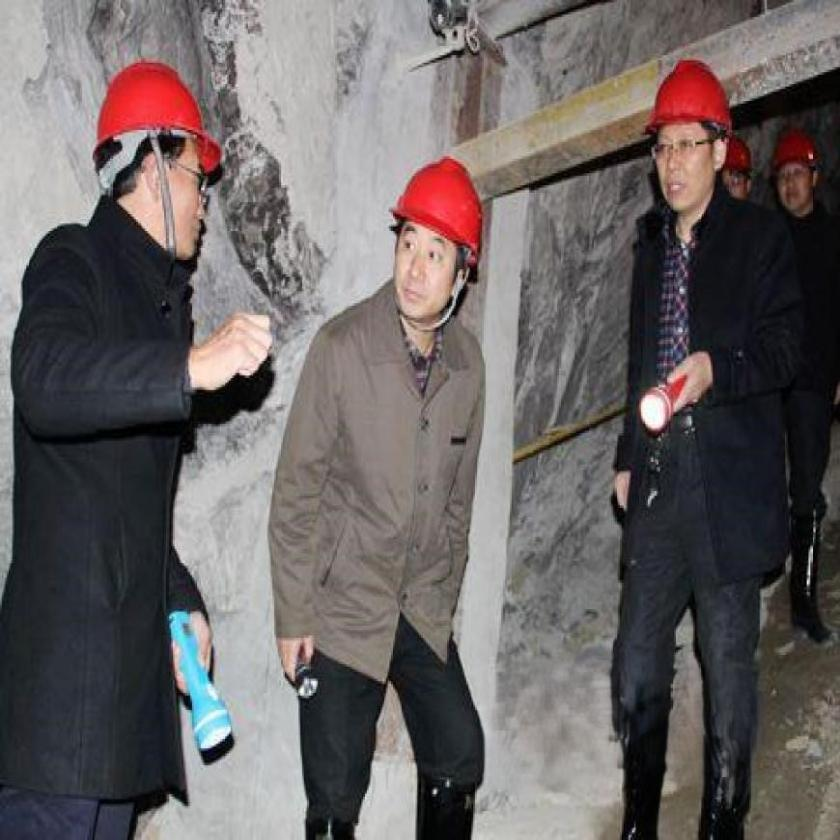Con_casco: (80, 51, 236, 284), (377, 160, 495, 303)
